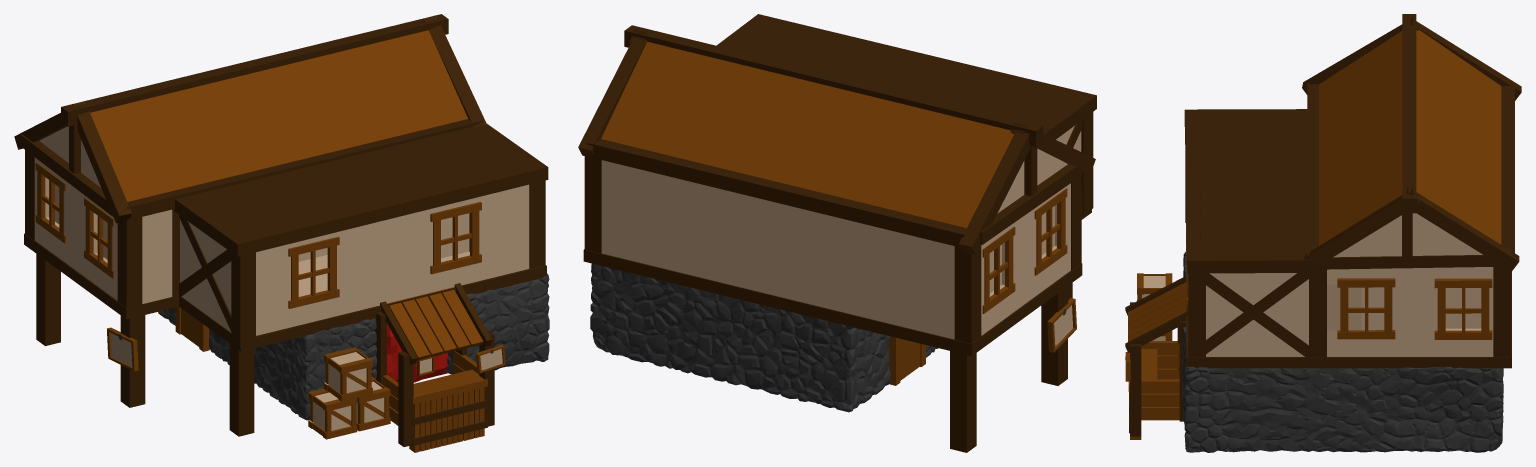
Rendered from resturant modle.fbx.
The picture shows the model from 3 angles, left to right: view 1: azimuth 30°, elevation 25°; view 2: azimuth 150°, elevation 25°; view 3: azimuth 270°, elevation 25°; orthographic projection. The views are drawn at different scales.
Visible parts, largest first — view 1: Cube.002, Cube.008, Cube, Cube.001, Cube.014, Cube.012, Cube.049, Cube.013, Cube.018, Cube.005, Cube.007, Cube.059 (+32 smaller); view 2: Cube.002, Cube, Cube.008, Cube.011, Cube.001, Cube.014, Cube.006, Cube.003, Cube.017, Cube.010, Cube.067, Cube.022 (+10 smaller); view 3: Cube.002, Cube, Cube.008, Cube.001, Cube.014, Cube.011, Cube.020, Cube.021, Cube.010, Cube.070, Cube.012, Cube.009 (+22 smaller).
Part boxes in pixels (box(x1,y1,x2,y2)): Cube.002: box(35, 30, 529, 335); Cube.008: box(174, 124, 548, 256); Cube: box(158, 273, 549, 420); Cube.001: box(24, 233, 546, 351); Cube.014: box(61, 14, 448, 126); Cube.012: box(127, 119, 483, 220); Cube.049: box(409, 387, 484, 452); Cube.013: box(231, 252, 255, 347); Cube.018: box(117, 217, 142, 307); Cube.005: box(229, 344, 254, 436); Cube.007: box(72, 101, 131, 223); Cube.059: box(324, 347, 372, 401); Cube.002: box(601, 41, 1081, 339); Cube: box(590, 263, 938, 412); Cube.008: box(716, 14, 1096, 139); Cube.011: box(587, 139, 966, 247); Cube.001: box(583, 207, 1091, 355); Cube.014: box(624, 25, 1043, 146); Cube.006: box(959, 132, 1031, 254); Cube.003: box(950, 351, 976, 452); Cube.017: box(954, 246, 981, 343); Cube.010: box(578, 28, 651, 158); Cube.067: box(980, 164, 1082, 244); Cube.022: box(1034, 188, 1067, 275); Cube.002: box(1206, 30, 1501, 356); Cube: box(1181, 251, 1503, 452); Cube.008: box(1184, 109, 1317, 273); Cube.001: box(1186, 216, 1511, 368); Cube.014: box(1402, 14, 1416, 213); Cube.011: box(1501, 85, 1514, 255); Cube.020: box(1337, 278, 1395, 339); Cube.021: box(1434, 278, 1492, 339); Cube.010: box(1407, 187, 1519, 271); Cube.070: box(1317, 255, 1501, 269); Cube.012: box(1307, 83, 1318, 256); Cube.009: box(1303, 188, 1420, 271).
Bounding box in the file's own units: 2836 × 2094 × 2572.
